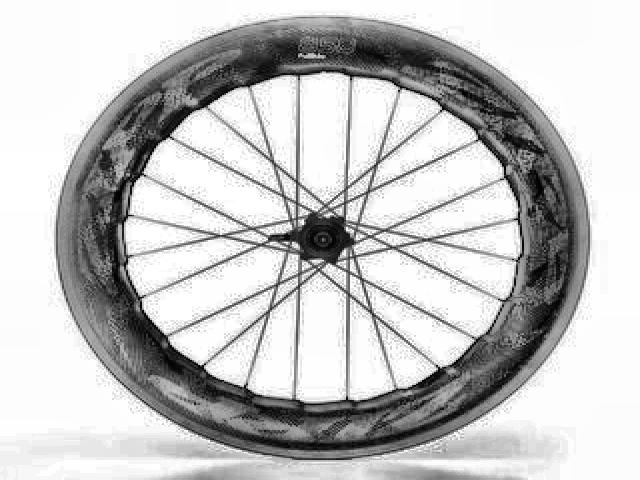wheel: (53, 13, 595, 461)
